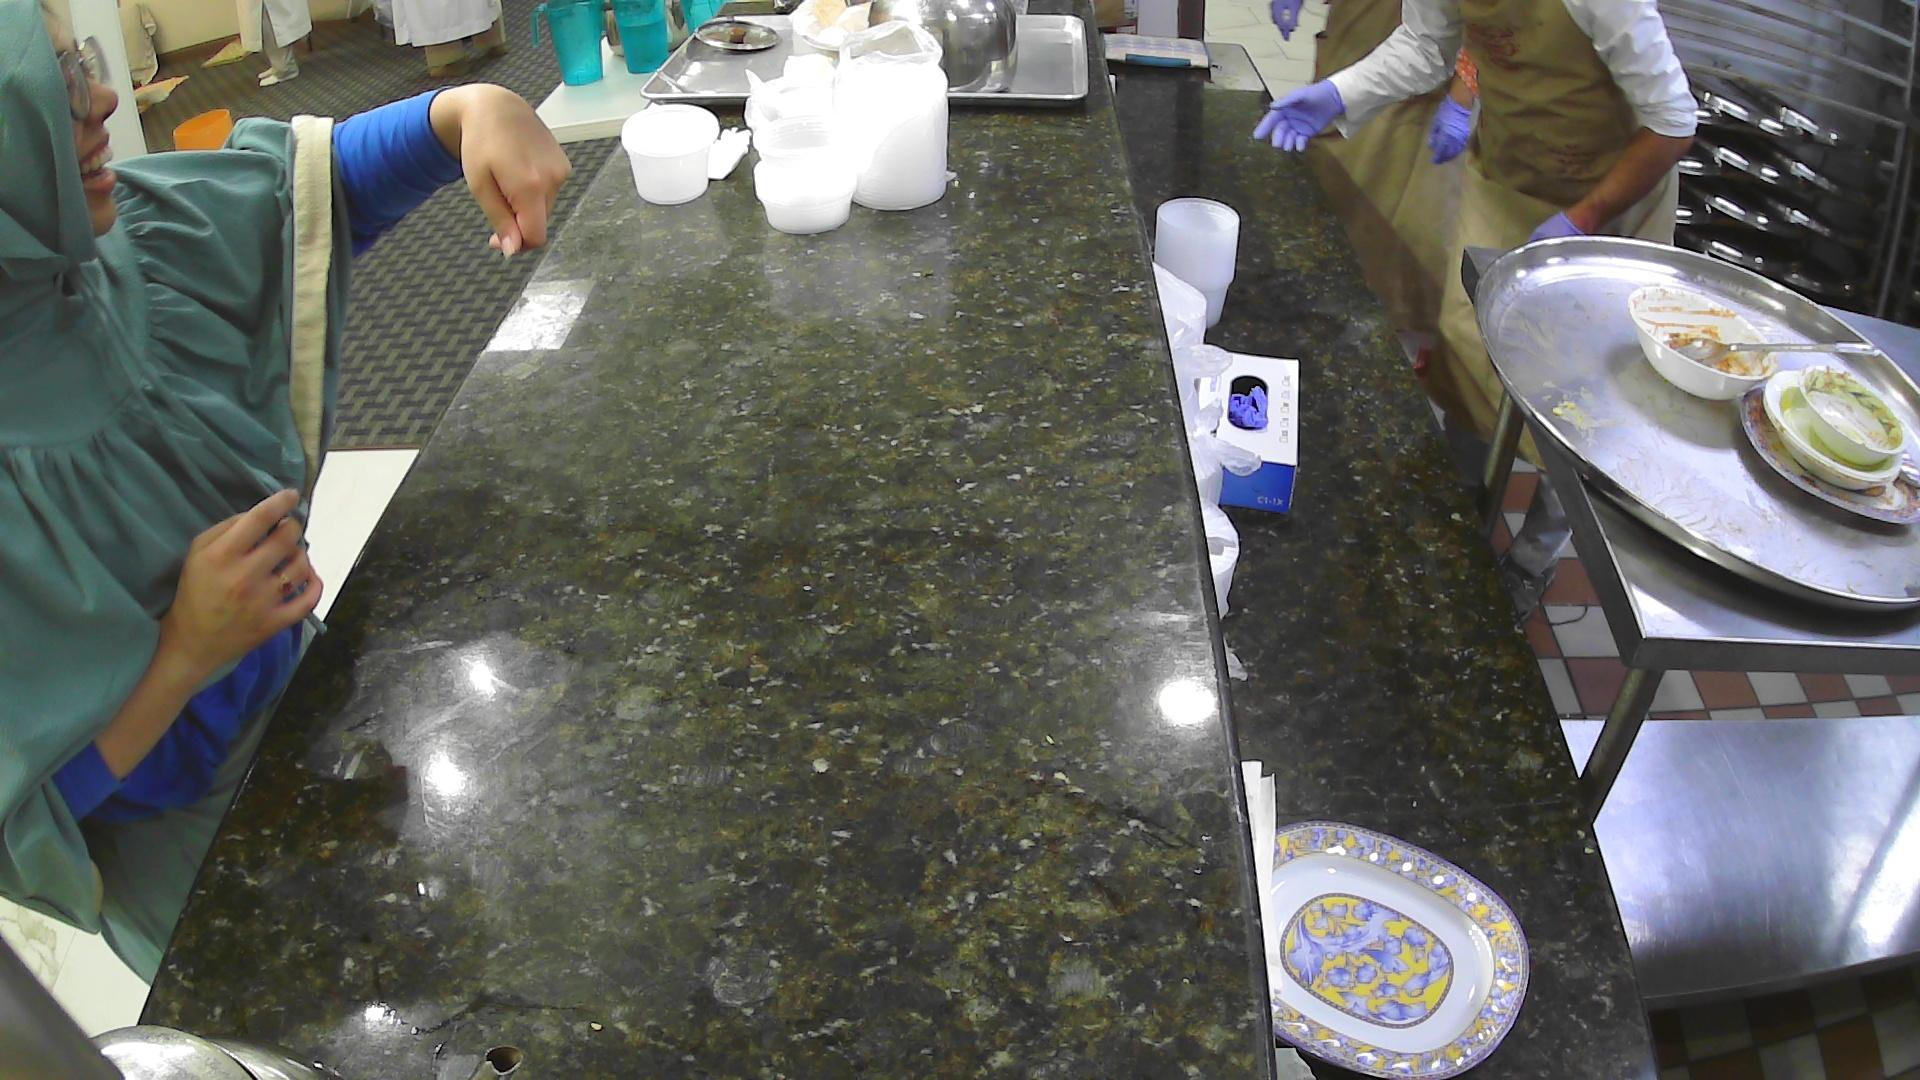thaal: (1474, 233, 1920, 624)
